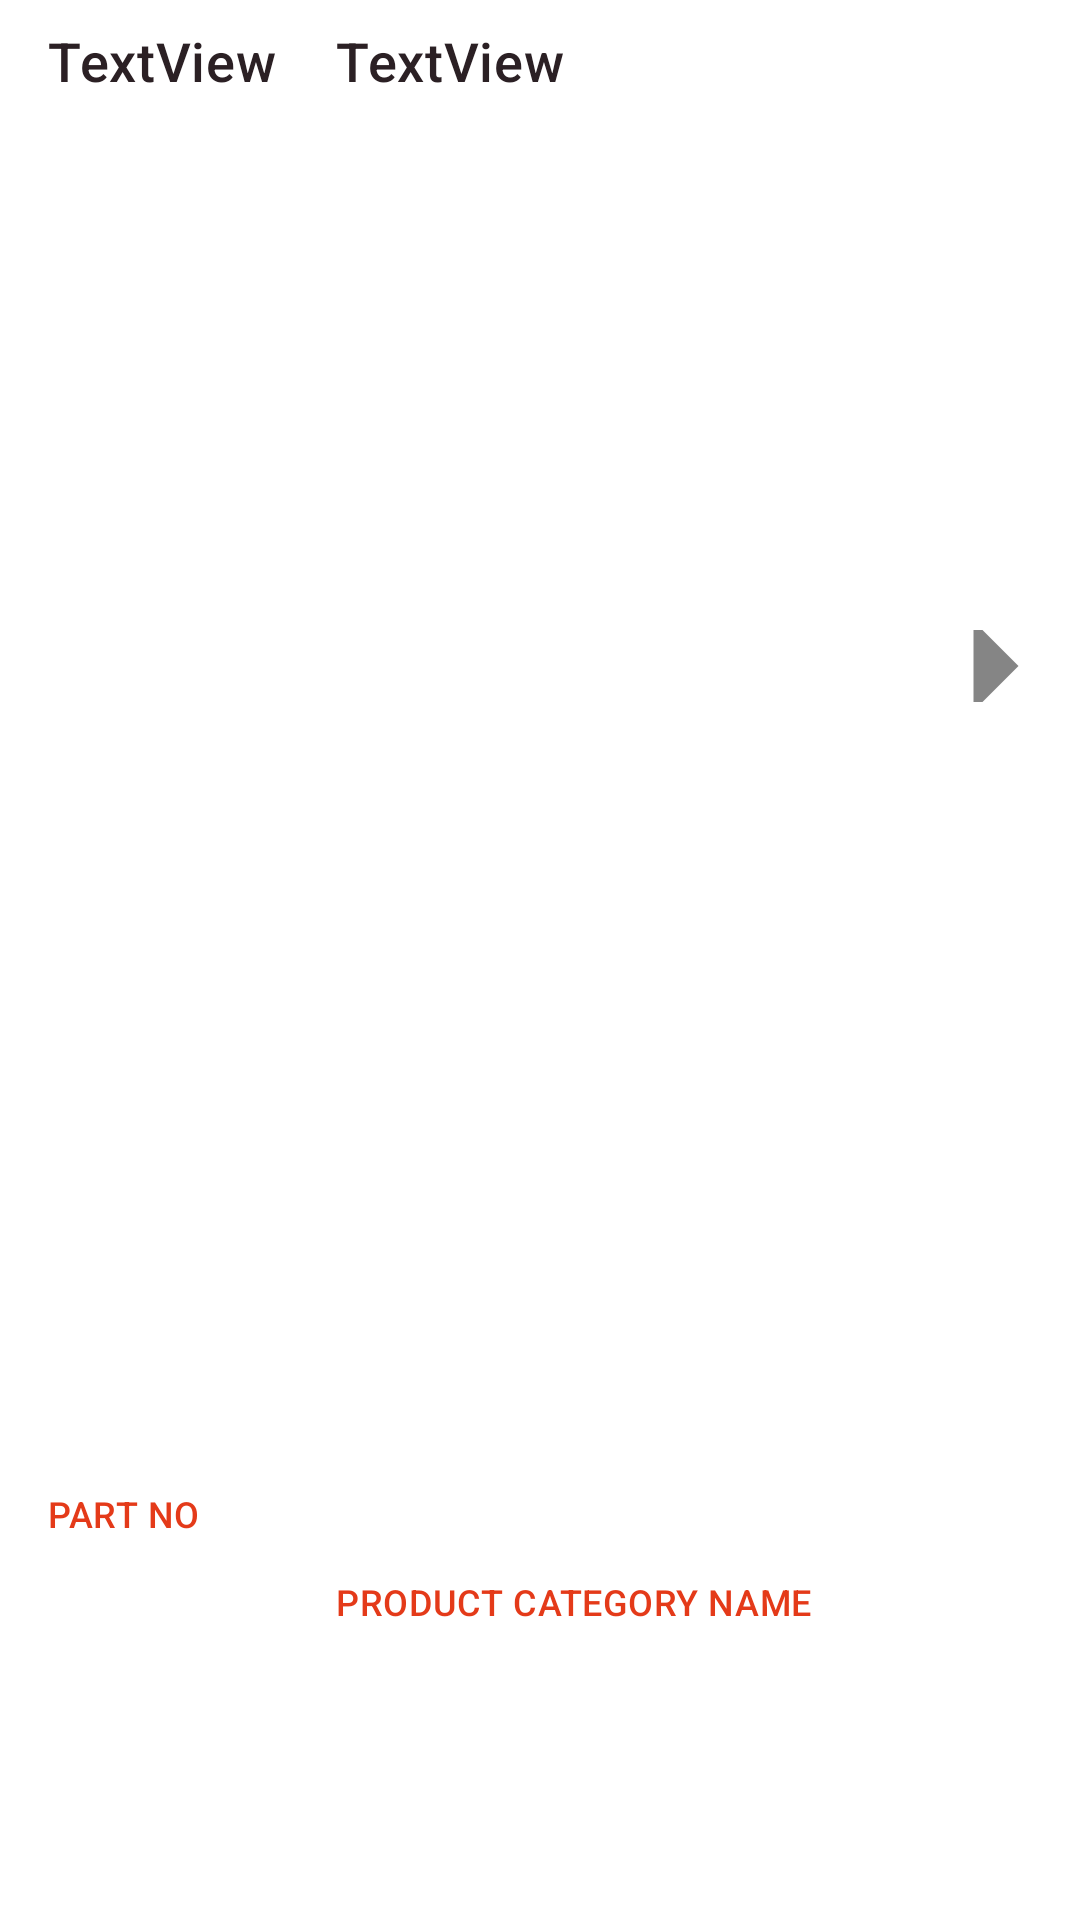

Icons on this 1080w x 1920h Android screen, each with its box as (x1, y1, x2, y2):
accessright: (973, 630, 1018, 702)
